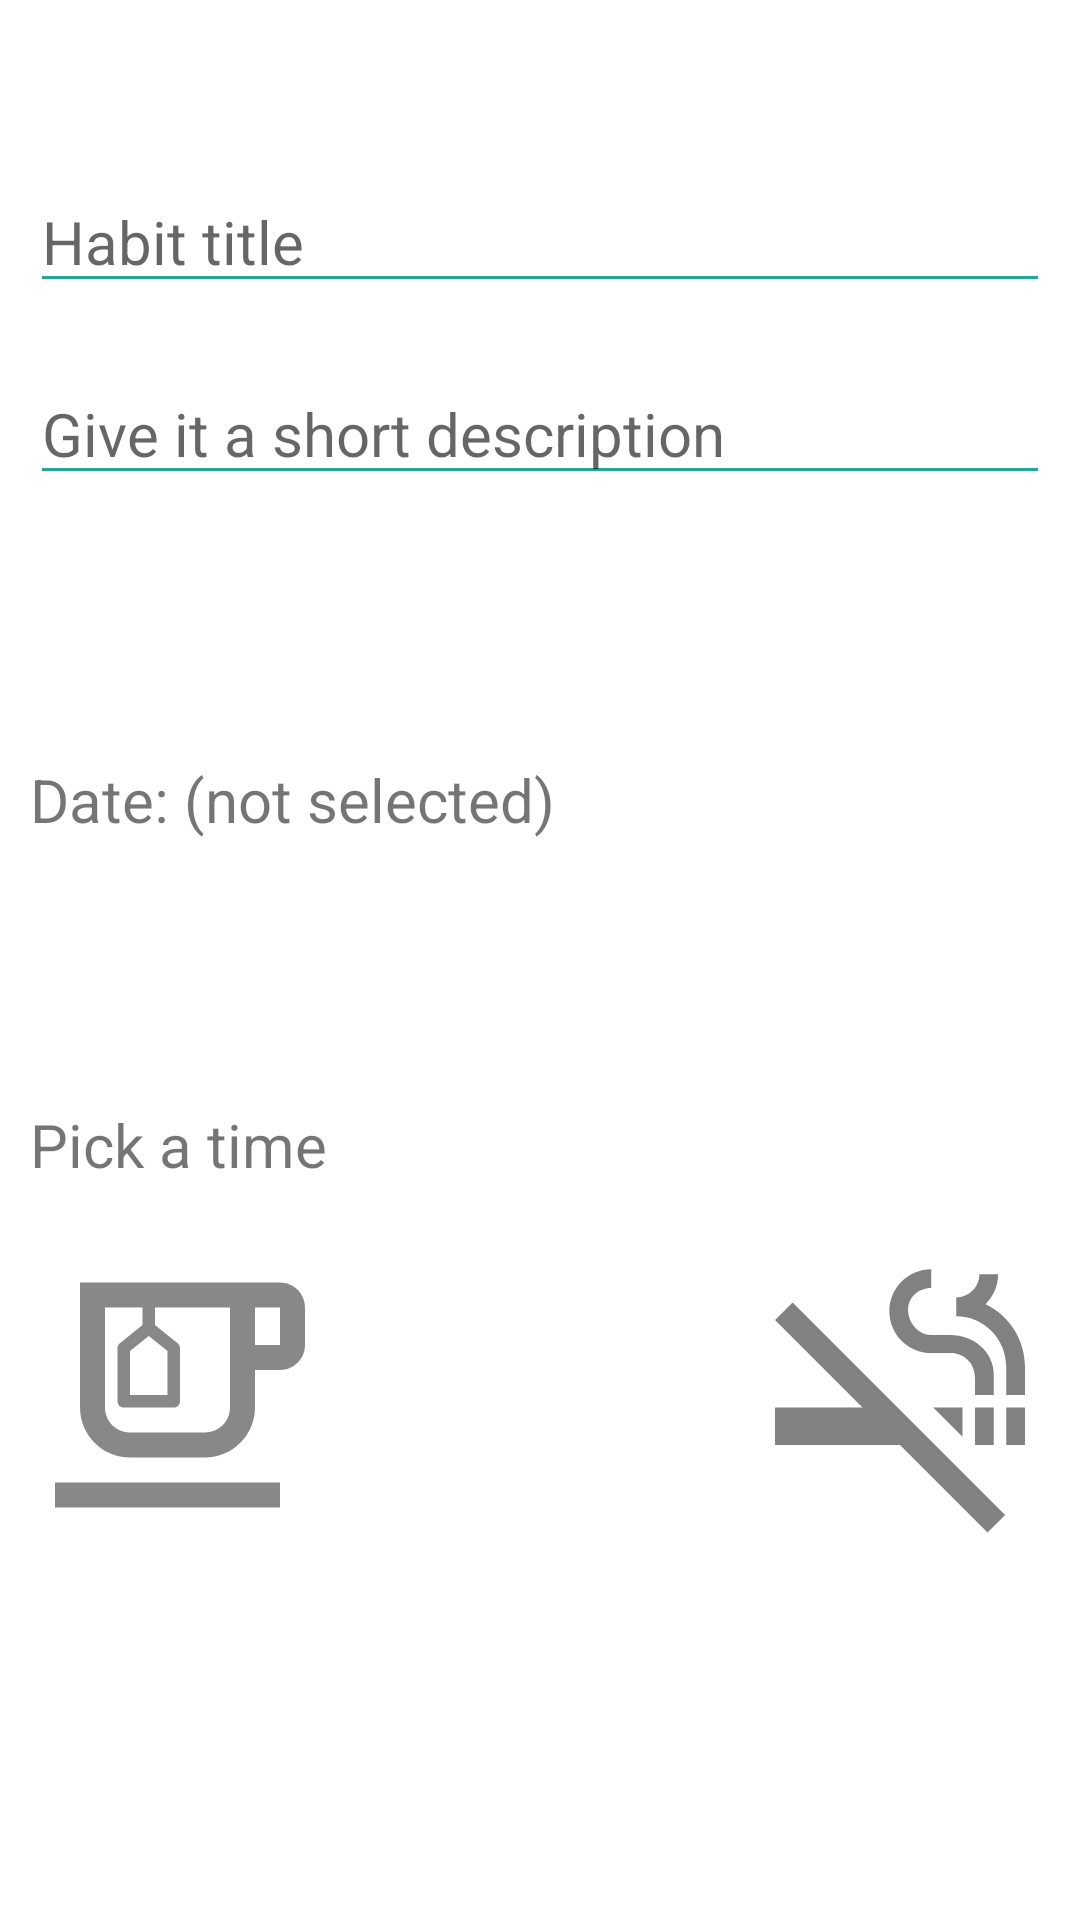

Screen size 1080w x 1920h. Icon name, then its center in pixels as (x=x, y=y):
beverage: (x=180, y=1395)
smoking: (x=900, y=1401)
